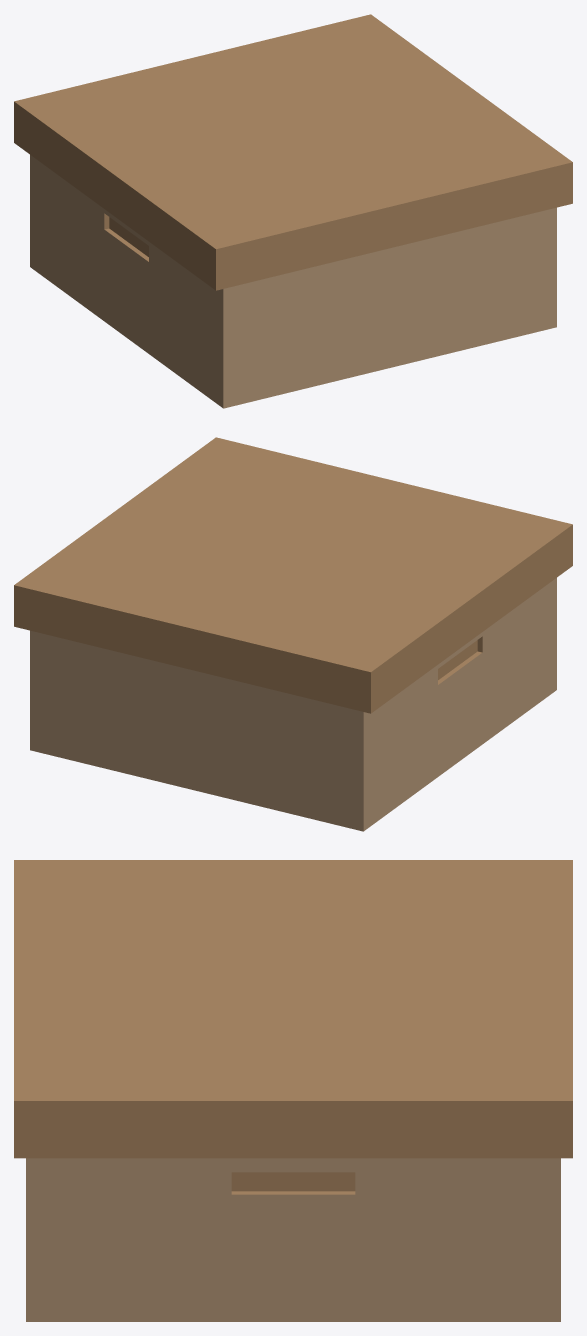
3 views of the same model, one above another, from view 1: azimuth 30°, elevation 25°; view 2: azimuth 150°, elevation 25°; view 3: azimuth 270°, elevation 25° (orthographic). The views are drawn at different scales.
Visible parts, largest first — view 1: Box_03; view 2: Box_03; view 3: Box_03.
Part boxes in pixels (x1,y1,x2,y2): Box_03: (14,14,572,408); Box_03: (14,437,572,831); Box_03: (14,860,572,1321).
Size of the model in its own units: 36.05 by 15.96 by 35.35.
